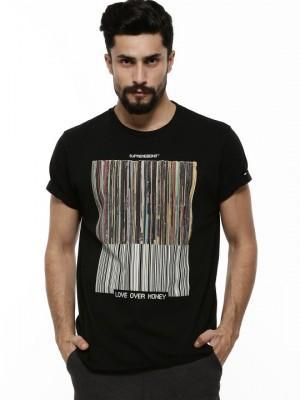T-shirt: (41, 98, 259, 378)
